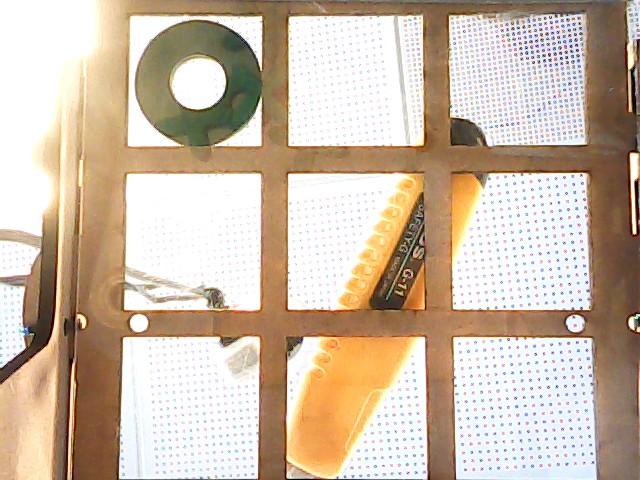O: (132, 17, 257, 144)
